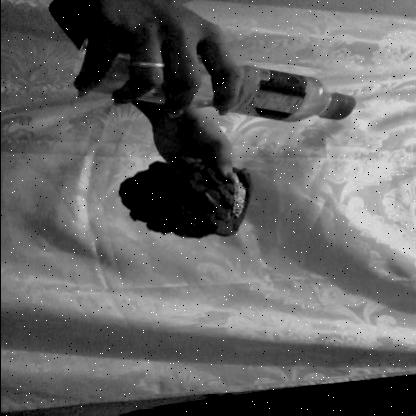Plastic Bottle: (61, 43, 371, 137)
